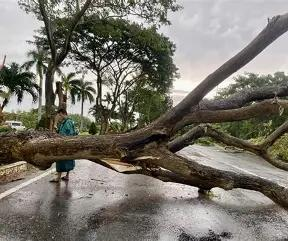ROAD_OBSTACLE: (3, 32, 285, 222)
